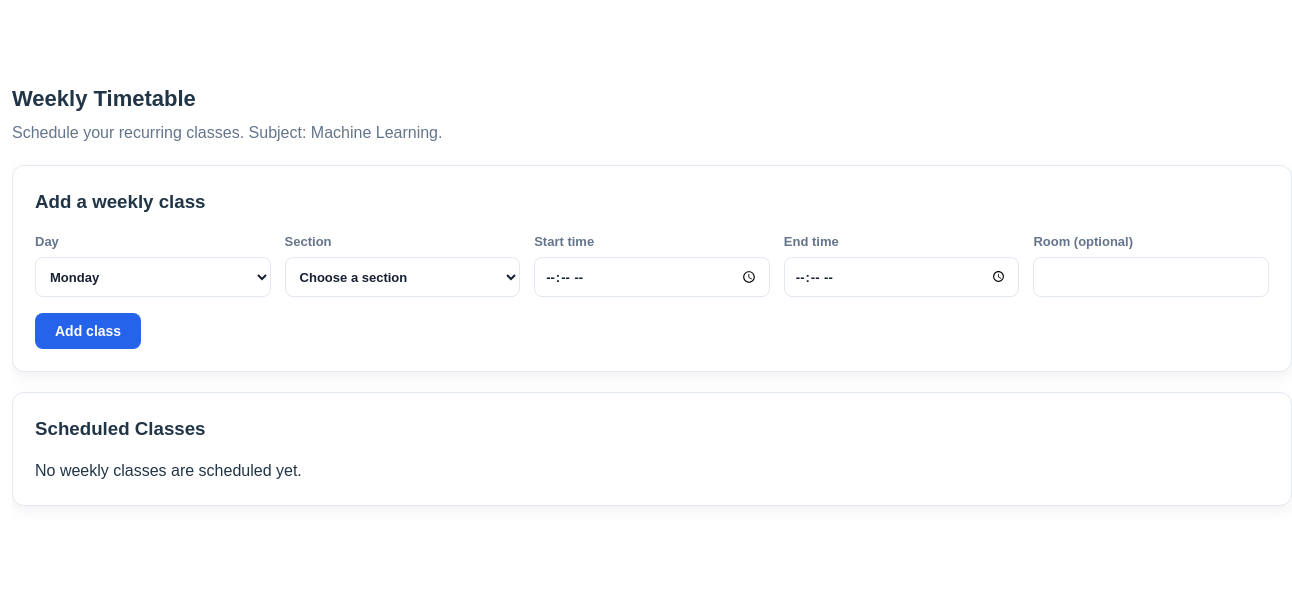
Test: Faculty weekly timetable management › creates a weekly class and displays the database-confirmed entry
Select "Monday" in the dropdown labelled "Day". click: (153, 277)
box: x1=35 y1=257 x2=271 y2=297
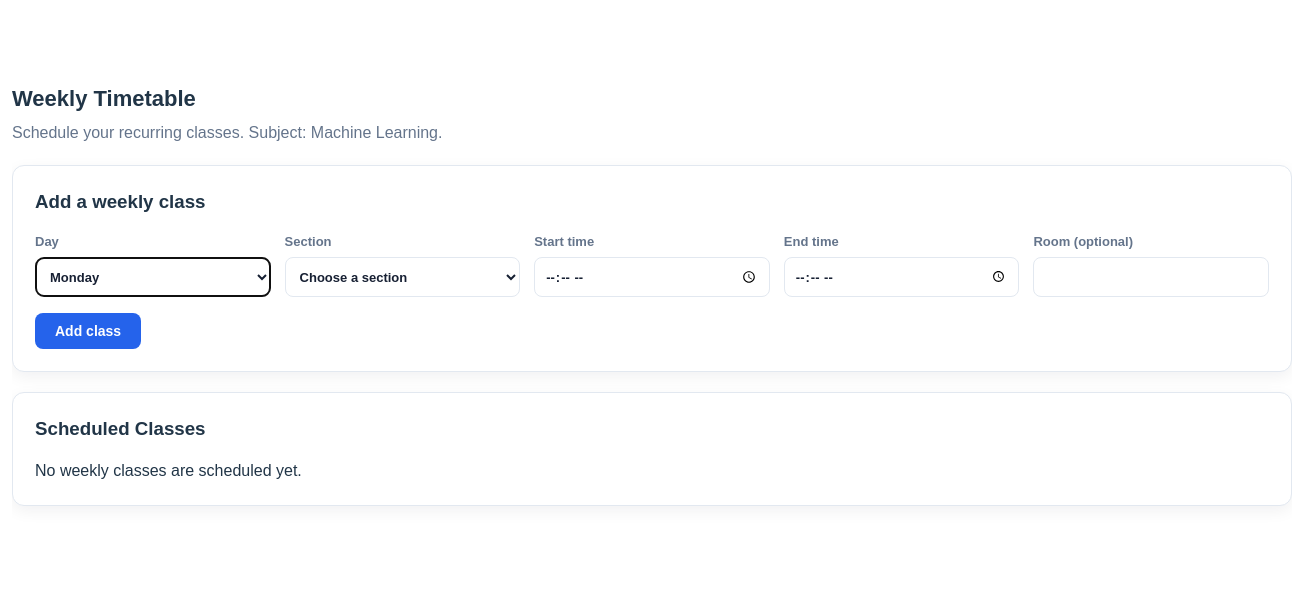
Select "A" in the dropdown labelled "Section". click: (402, 277)
box: x1=285 y1=257 x2=520 y2=297
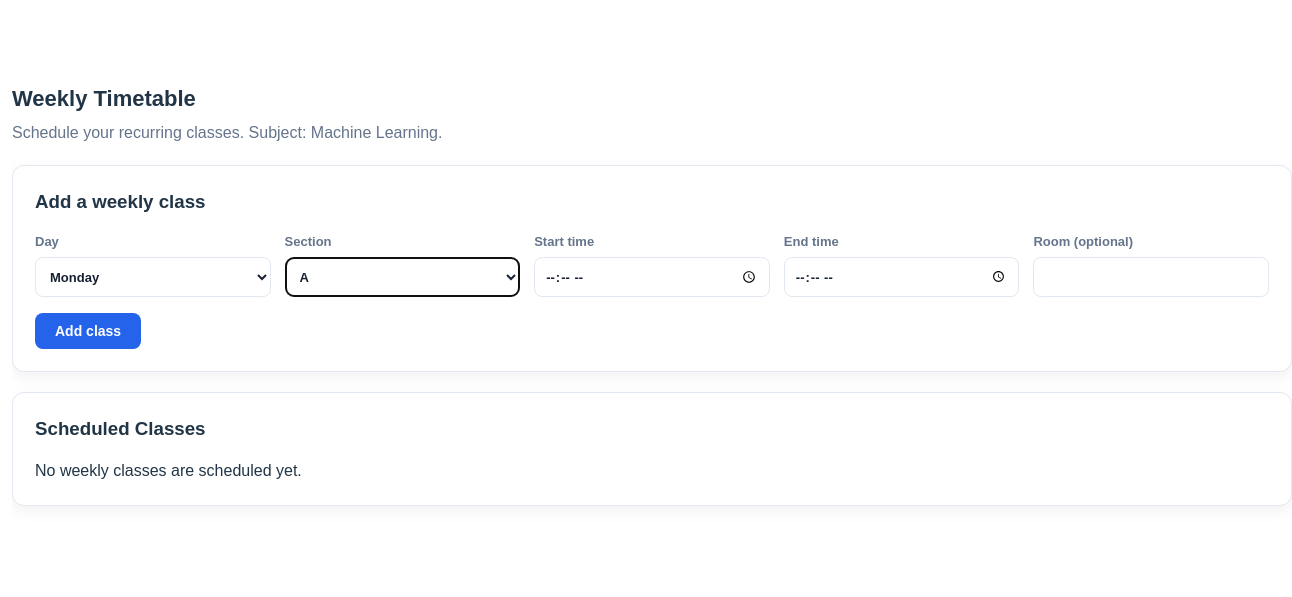
Type "09:00" into the time field labelled "Start time". click: (652, 277)
box: x1=534 y1=257 x2=770 y2=297
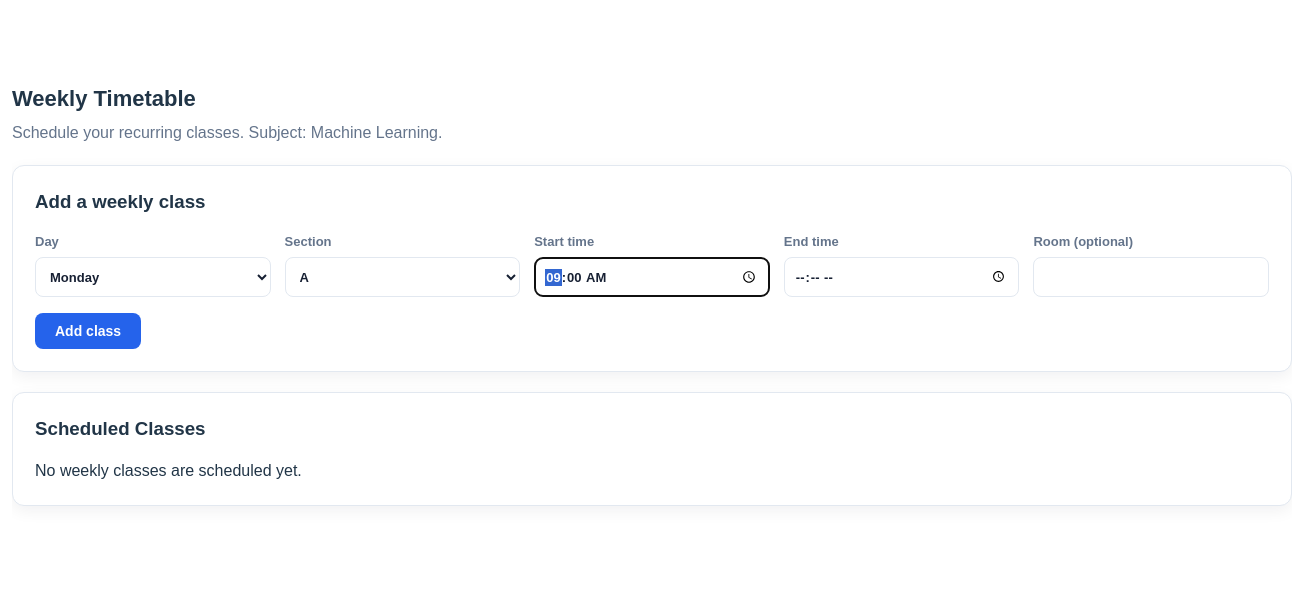
Type "10:00" into the time field labelled "End time". click: (902, 277)
box: x1=784 y1=257 x2=1019 y2=297
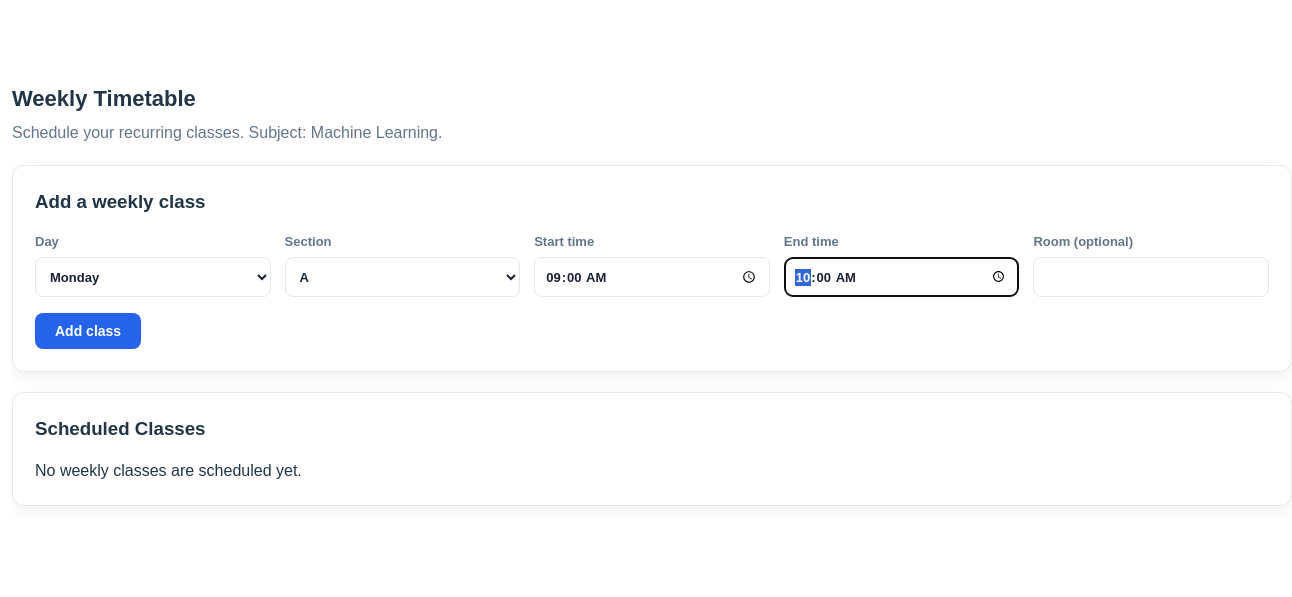
Type "Lab 1" into the field labelled "Room (optional)". click: (1151, 277)
box: x1=1033 y1=257 x2=1269 y2=297
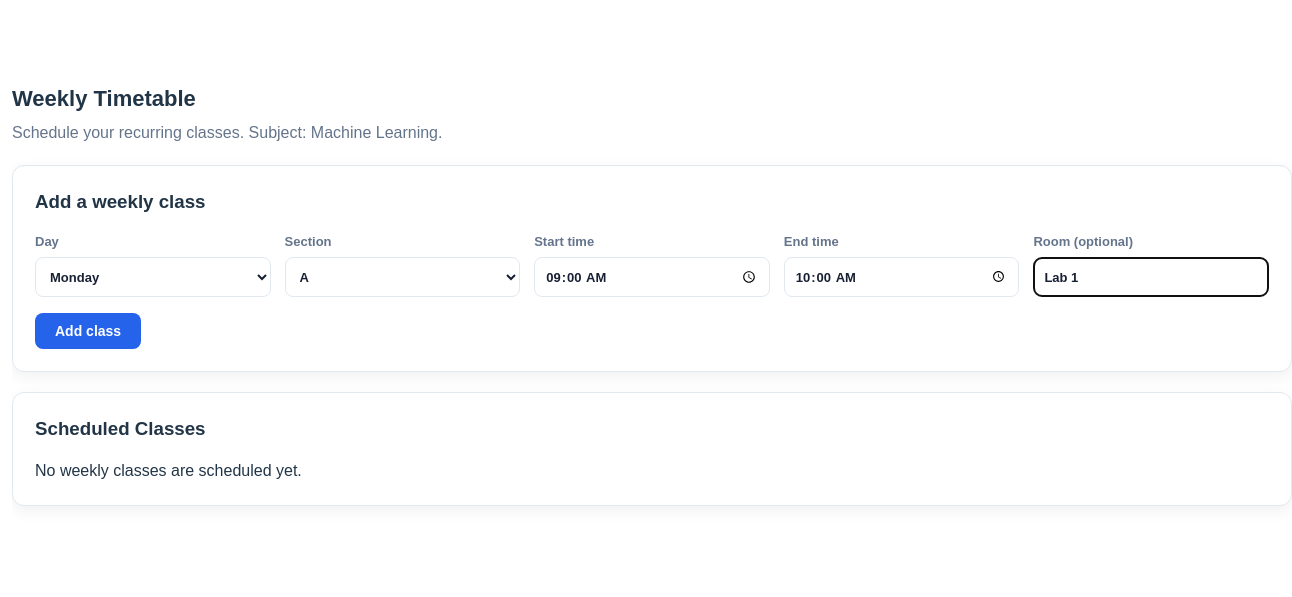
Click the button "Add class". click: (88, 331)
box: x1=35 y1=313 x2=141 y2=349
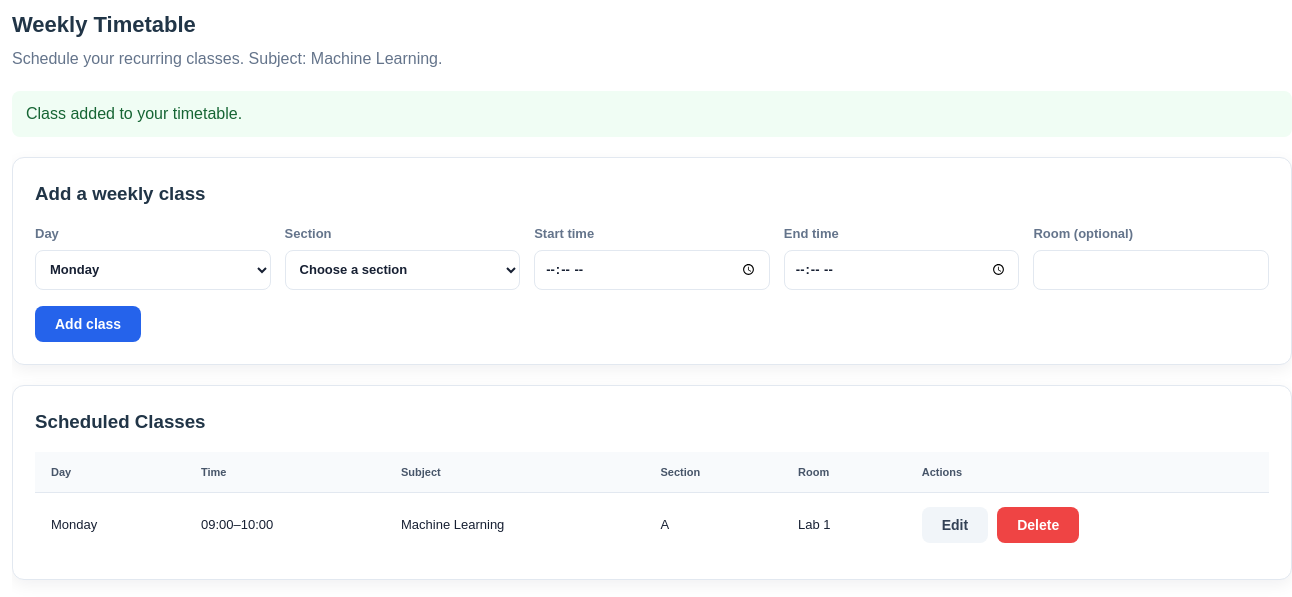
Now the text "Machine Learning" is shown, box x1=385 y1=493 x2=644 y2=557
Now the message shows "Class added", box x1=26 y1=105 x2=242 y2=122
